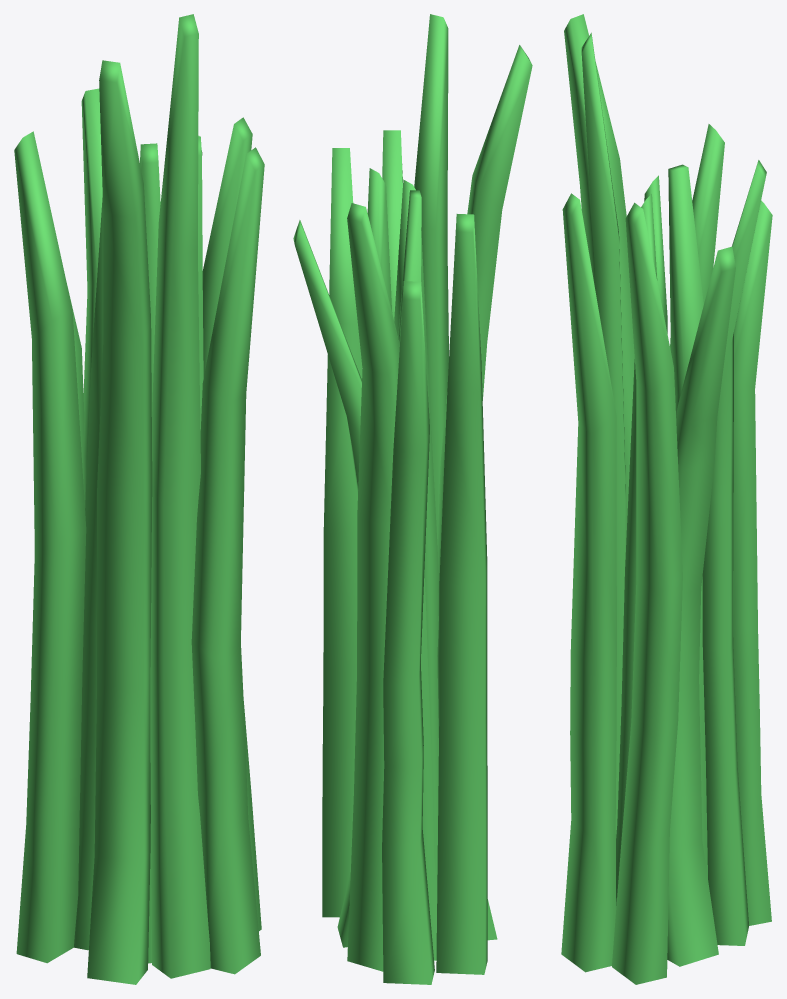
The model's file is Toiceira_3.fbx.
3 renders of one model, left to right at view 1: azimuth 30°, elevation 25°; view 2: azimuth 150°, elevation 25°; view 3: azimuth 270°, elevation 25°, orthographic. The views are drawn at different scales.
Visible parts, largest first — view 1: Toiceira_3; view 2: Toiceira_3; view 3: Toiceira_3.
Boxes of the visible parts, <box> form: Toiceira_3: <box>14,14,264,984</box>; Toiceira_3: <box>293,14,532,984</box>; Toiceira_3: <box>561,14,772,984</box>.
Bounding box in the file's own units: 0.0928 × 0.1004 × 0.438.
